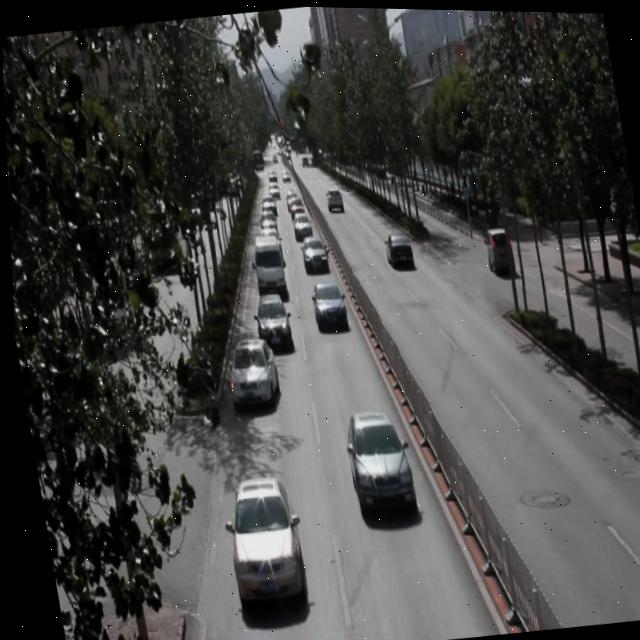car: (214, 468, 301, 596), (336, 403, 410, 510), (219, 330, 275, 401), (248, 287, 289, 347), (305, 275, 344, 328), (379, 224, 411, 269), (295, 228, 325, 270), (252, 221, 276, 258), (285, 205, 309, 238), (253, 203, 273, 231)
truck: (246, 228, 284, 289), (477, 219, 510, 267)
